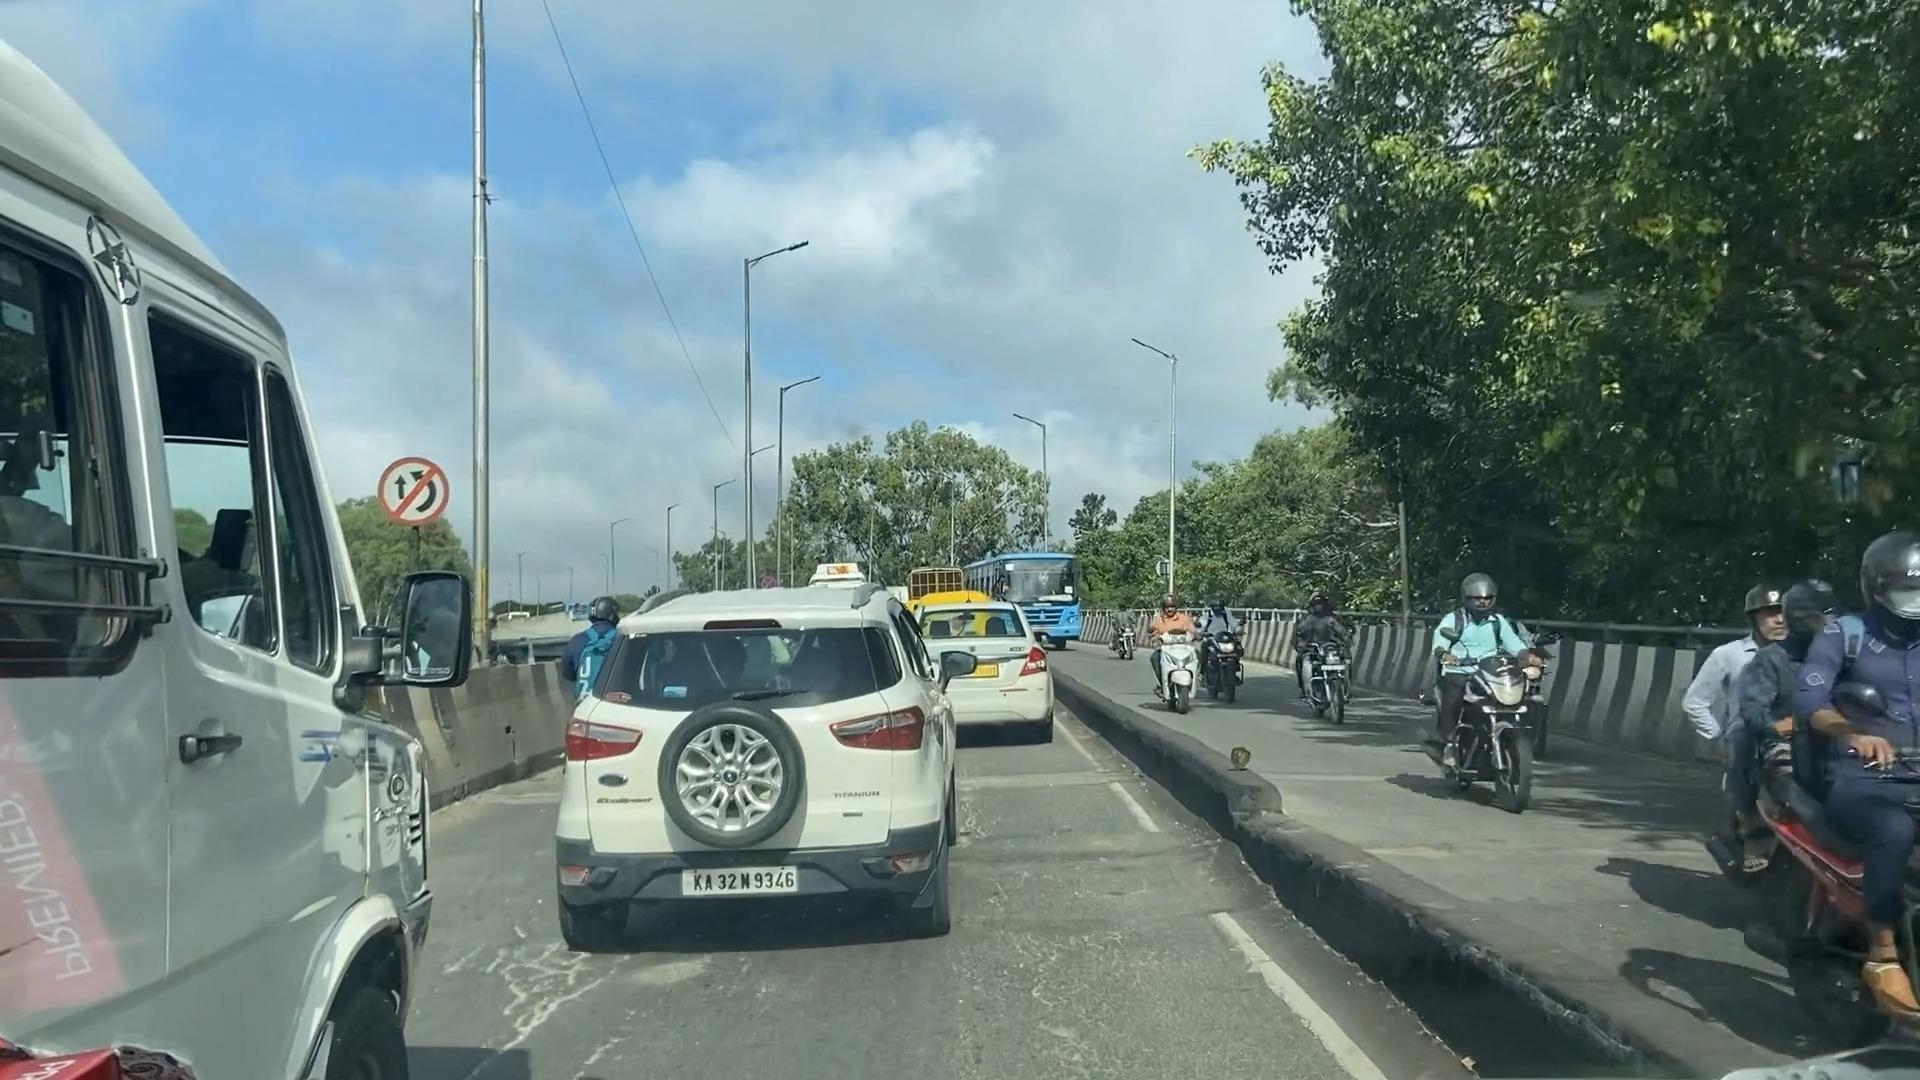LMV: (568, 591, 957, 944), (907, 607, 1048, 740)
RoadDamages: (450, 916, 713, 1064), (955, 833, 1204, 899)
SpeedBump: (972, 754, 1142, 796)
